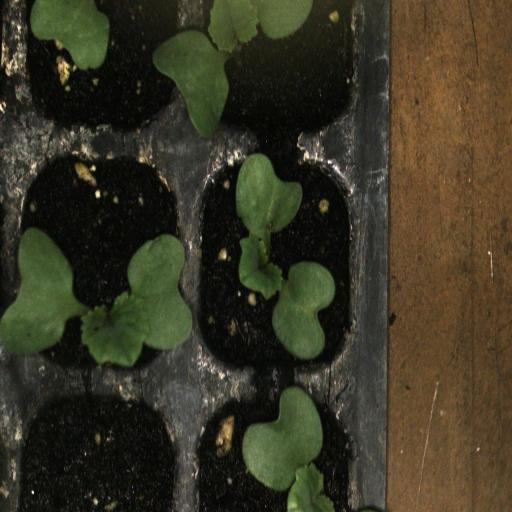noseedling: (11, 380, 185, 512)
seedling: (10, 144, 189, 382), (191, 148, 364, 374), (195, 0, 362, 149), (193, 375, 364, 511)
